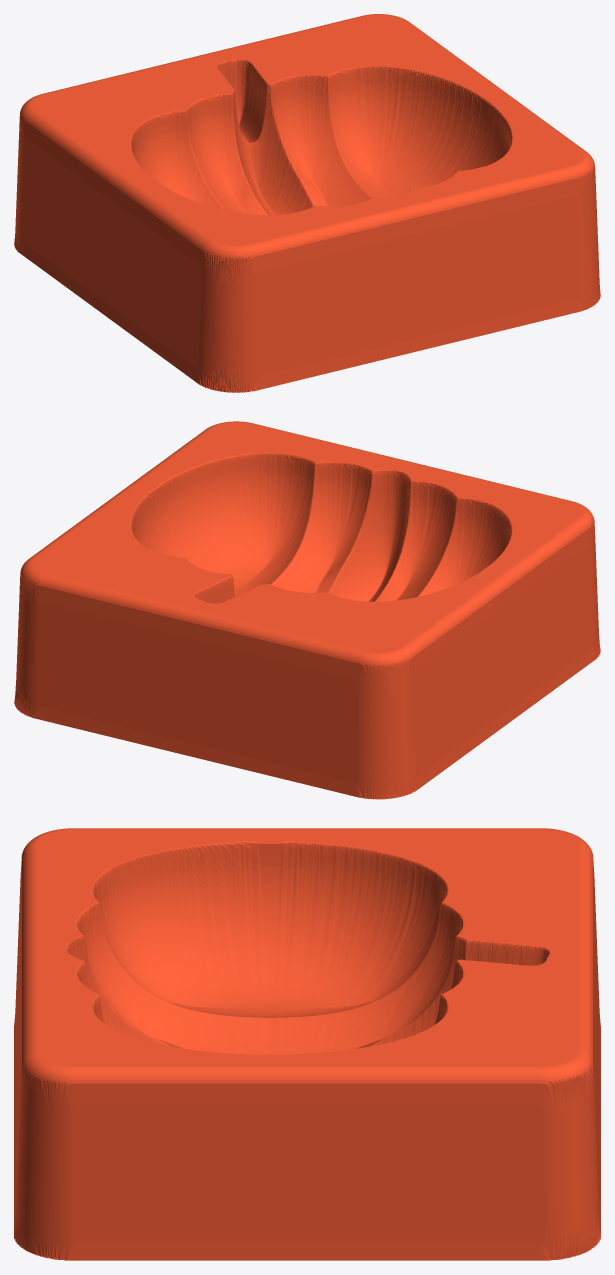
Rendered from mold.glb.
3 views of the same model, one above another, from view 1: azimuth 30°, elevation 25°; view 2: azimuth 150°, elevation 25°; view 3: azimuth 270°, elevation 25° (orthographic). The views are drawn at different scales.
Parts seen in each view (by area): view 1: geometry_0; view 2: geometry_0; view 3: geometry_0.
Boxes of the visible parts, bbox=[...] form: geometry_0: bbox=[14, 14, 600, 392]; geometry_0: bbox=[14, 421, 600, 799]; geometry_0: bbox=[14, 828, 600, 1260].
Size of the model in its own units: 0.0924 by 0.031 by 0.0894.
